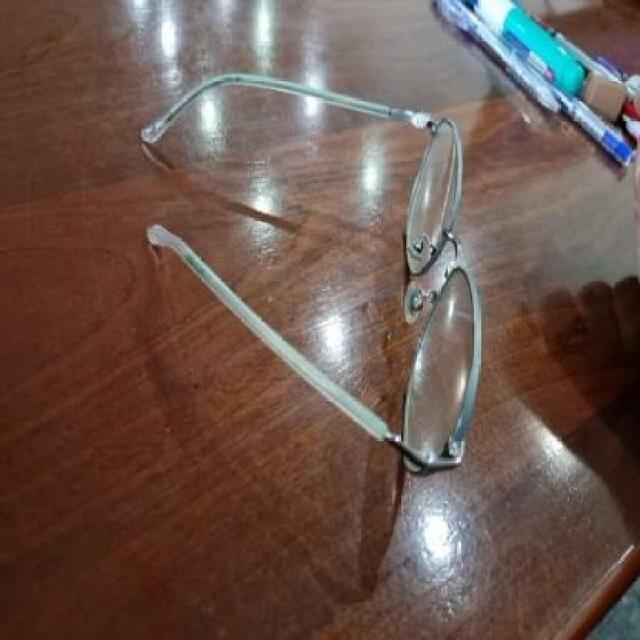not trash: (142, 74, 482, 474), (434, 0, 562, 112), (474, 0, 580, 98), (554, 89, 637, 163)
